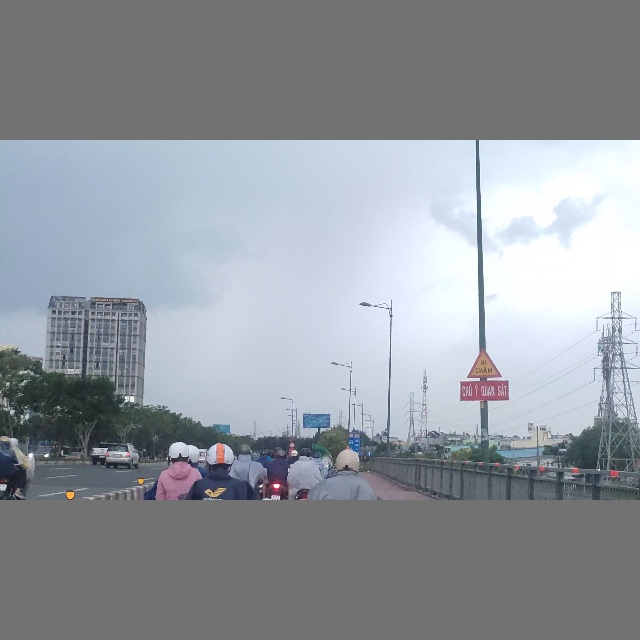W.245a: (466, 348, 503, 379)
